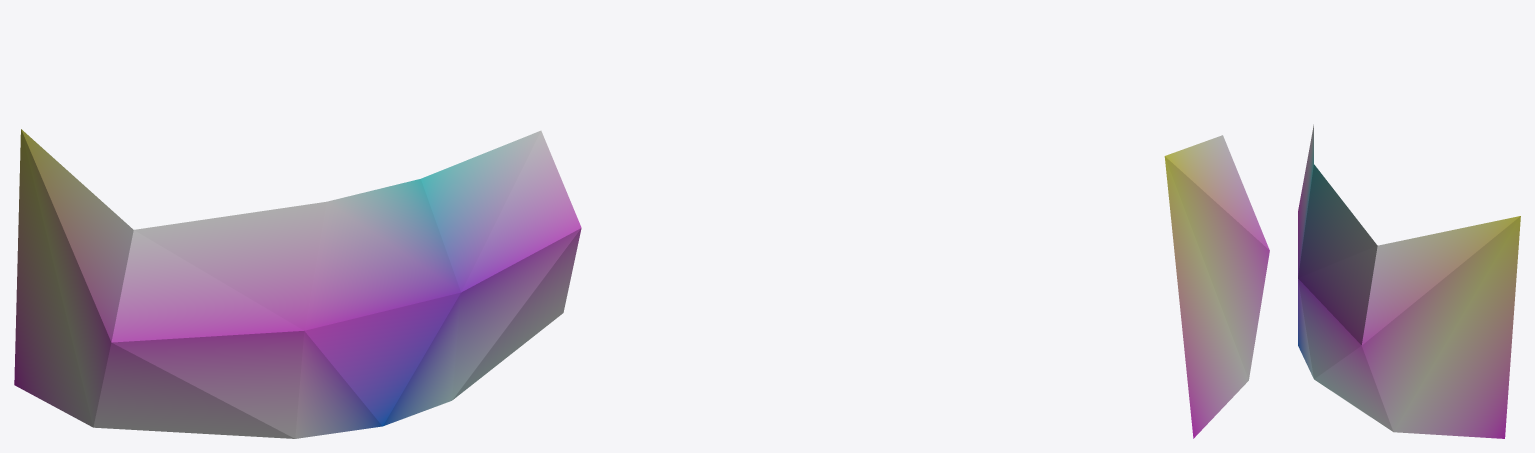
3 views of the same model, side by side, from view 1: azimuth 30°, elevation 25°; view 2: azimuth 150°, elevation 25°; view 3: azimuth 270°, elevation 25° (orthographic). The views are drawn at different scales.
Parts seen in each view (by area): view 1: model_11BE; view 2: model_11BE; view 3: model_11BE.
Boxes of the visible parts, x1,y1,x2,y2 form: model_11BE: (14,129,581,438); model_11BE: (1164,135,1269,438); model_11BE: (1298,124,1520,438).
Size of the model in its own units: 32 by 16 by 14.
